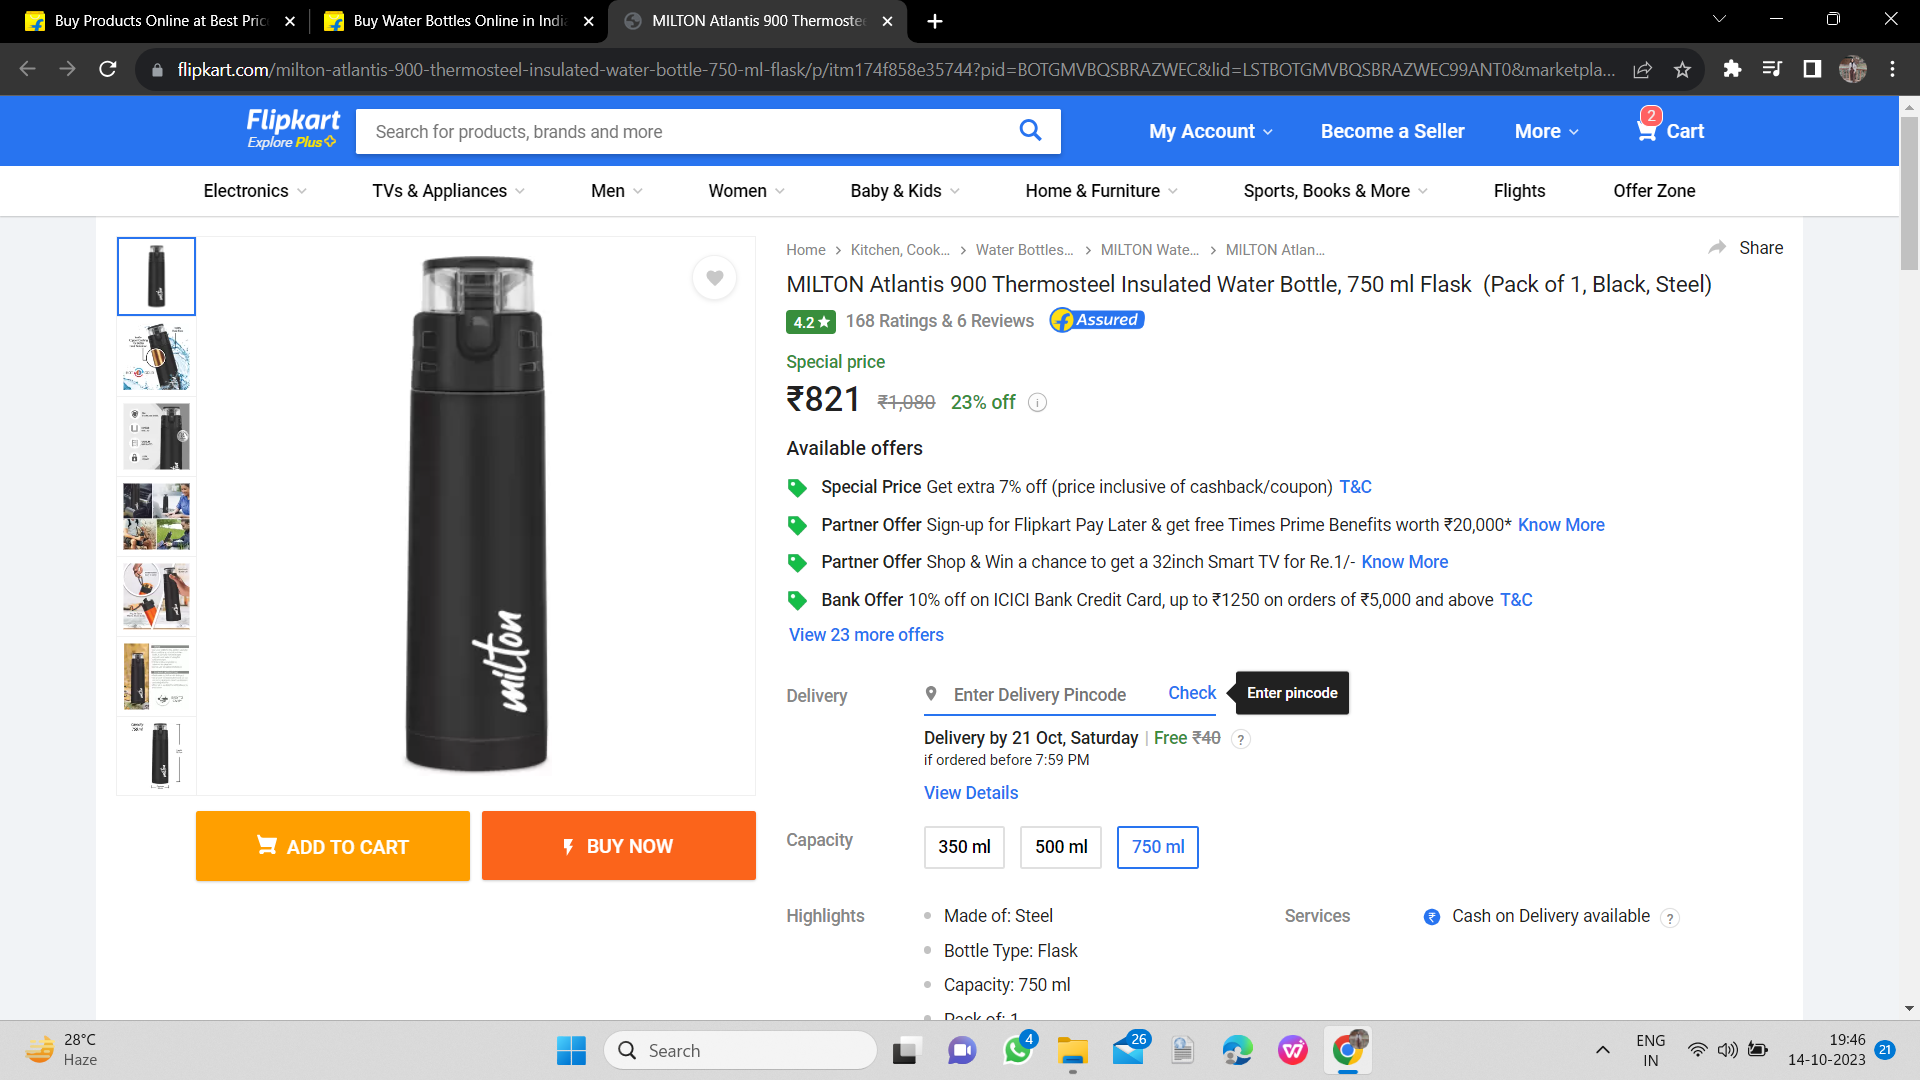Image: (228, 241, 735, 778), (352, 99, 1075, 156)
Paragraph: (775, 469, 1630, 651), (177, 796, 766, 907), (775, 262, 1731, 306), (775, 899, 1100, 1002), (1138, 104, 1706, 148), (913, 666, 1367, 716), (913, 818, 1224, 889), (766, 345, 1021, 418), (1269, 895, 1648, 938), (771, 310, 1171, 342), (913, 728, 1141, 752), (778, 430, 927, 459), (779, 676, 852, 713), (782, 824, 856, 858), (1704, 235, 1792, 258)
